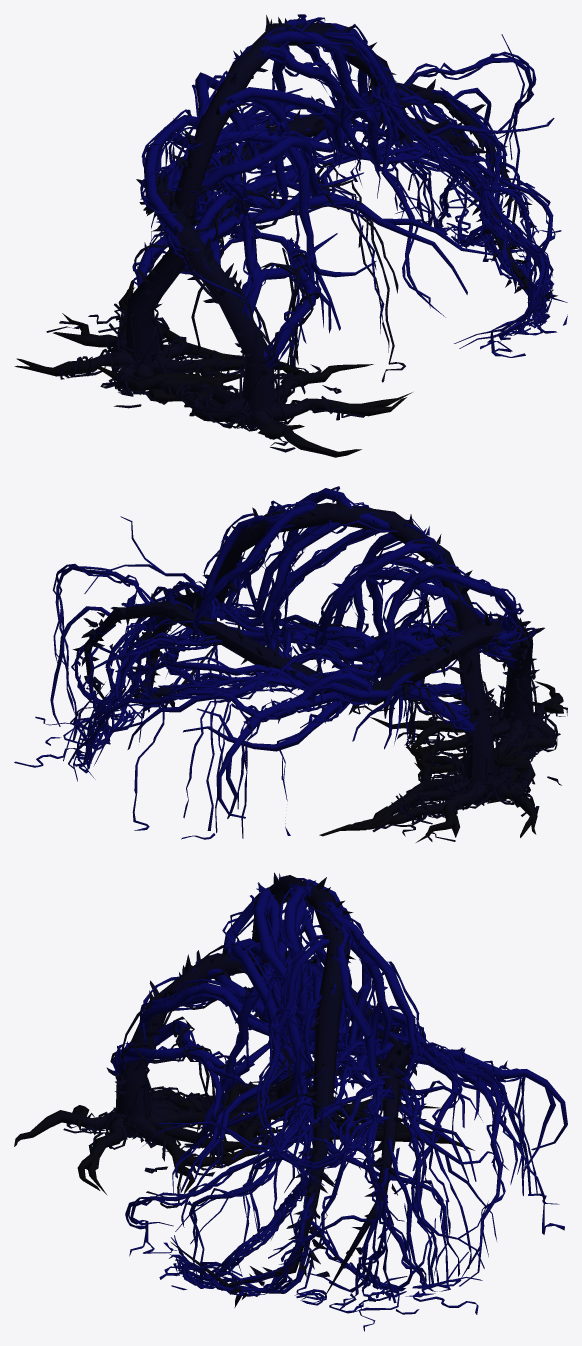
Rendered from Sm_SpikeTree_01.FBX.
The picture shows the model from 3 angles, top to bottom: view 1: azimuth 30°, elevation 25°; view 2: azimuth 150°, elevation 25°; view 3: azimuth 270°, elevation 25°; orthographic projection. The views are drawn at different scales.
Parts seen in each view (by area): view 1: Sm_SpikeTree_01; view 2: Sm_SpikeTree_01; view 3: Sm_SpikeTree_01.
Boxes of the visible parts, bbox=[...] form: Sm_SpikeTree_01: bbox=[14, 14, 567, 457]; Sm_SpikeTree_01: bbox=[14, 486, 567, 842]; Sm_SpikeTree_01: bbox=[14, 872, 567, 1331].
Size of what is drawn, in the model's own units: 1200 by 1056 by 680.
